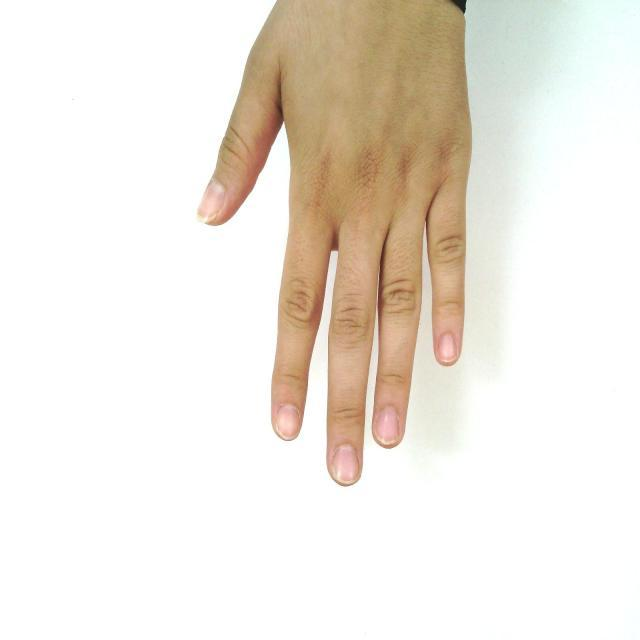Fingernail: (198, 181, 224, 221), (333, 446, 358, 483), (277, 405, 299, 439), (376, 408, 398, 442), (439, 334, 455, 361)
